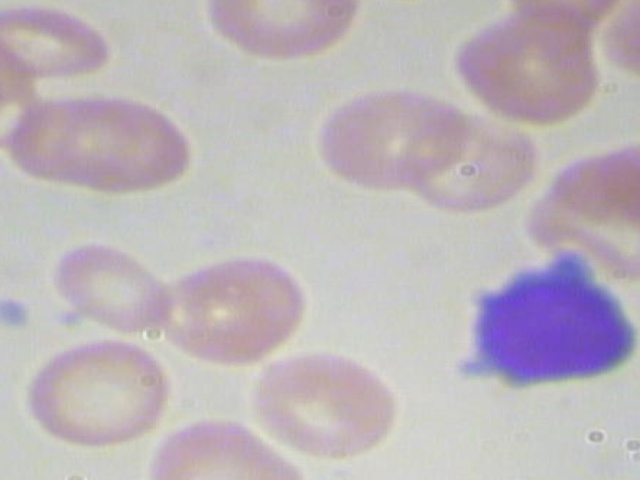RBC: (448, 12, 616, 125), (150, 249, 310, 365), (316, 81, 476, 197), (247, 347, 406, 463), (22, 332, 181, 448), (48, 88, 207, 204), (389, 104, 544, 214), (49, 236, 172, 331), (142, 416, 308, 480), (212, 0, 363, 68), (0, 0, 129, 79), (546, 124, 640, 225)
WBC: (429, 244, 640, 401)
